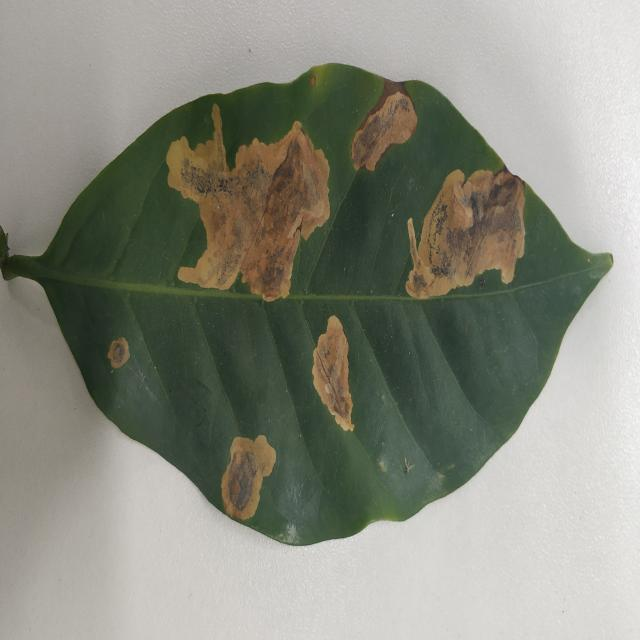Plaga-Minador: (0, 64, 615, 550)
